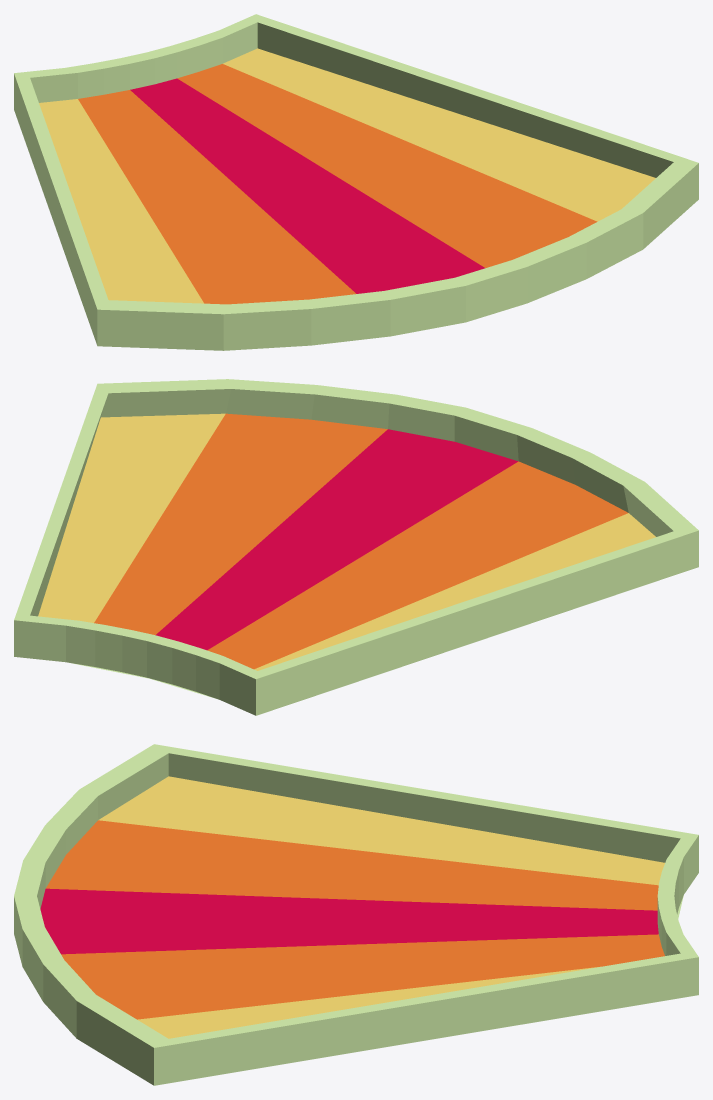
The model's file is HitIndicator.fbx.
3 renders of one model, top to bottom at view 1: azimuth 30°, elevation 25°; view 2: azimuth 150°, elevation 25°; view 3: azimuth 270°, elevation 25°, orthographic. The views are drawn at different scales.
Parts seen in each view (by area): view 1: HitIndicator; view 2: HitIndicator; view 3: HitIndicator.
Boxes of the visible parts, x1,y1,x2,y2 form: HitIndicator: (14,14,698,350); HitIndicator: (14,379,698,715); HitIndicator: (14,744,698,1085).
Size of the model in its own units: 264 by 15.35 by 251.
